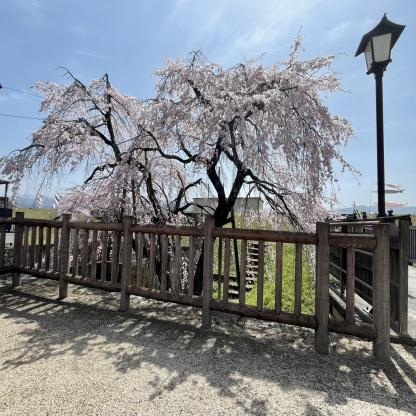ShidareZakura: (0, 22, 363, 293)
